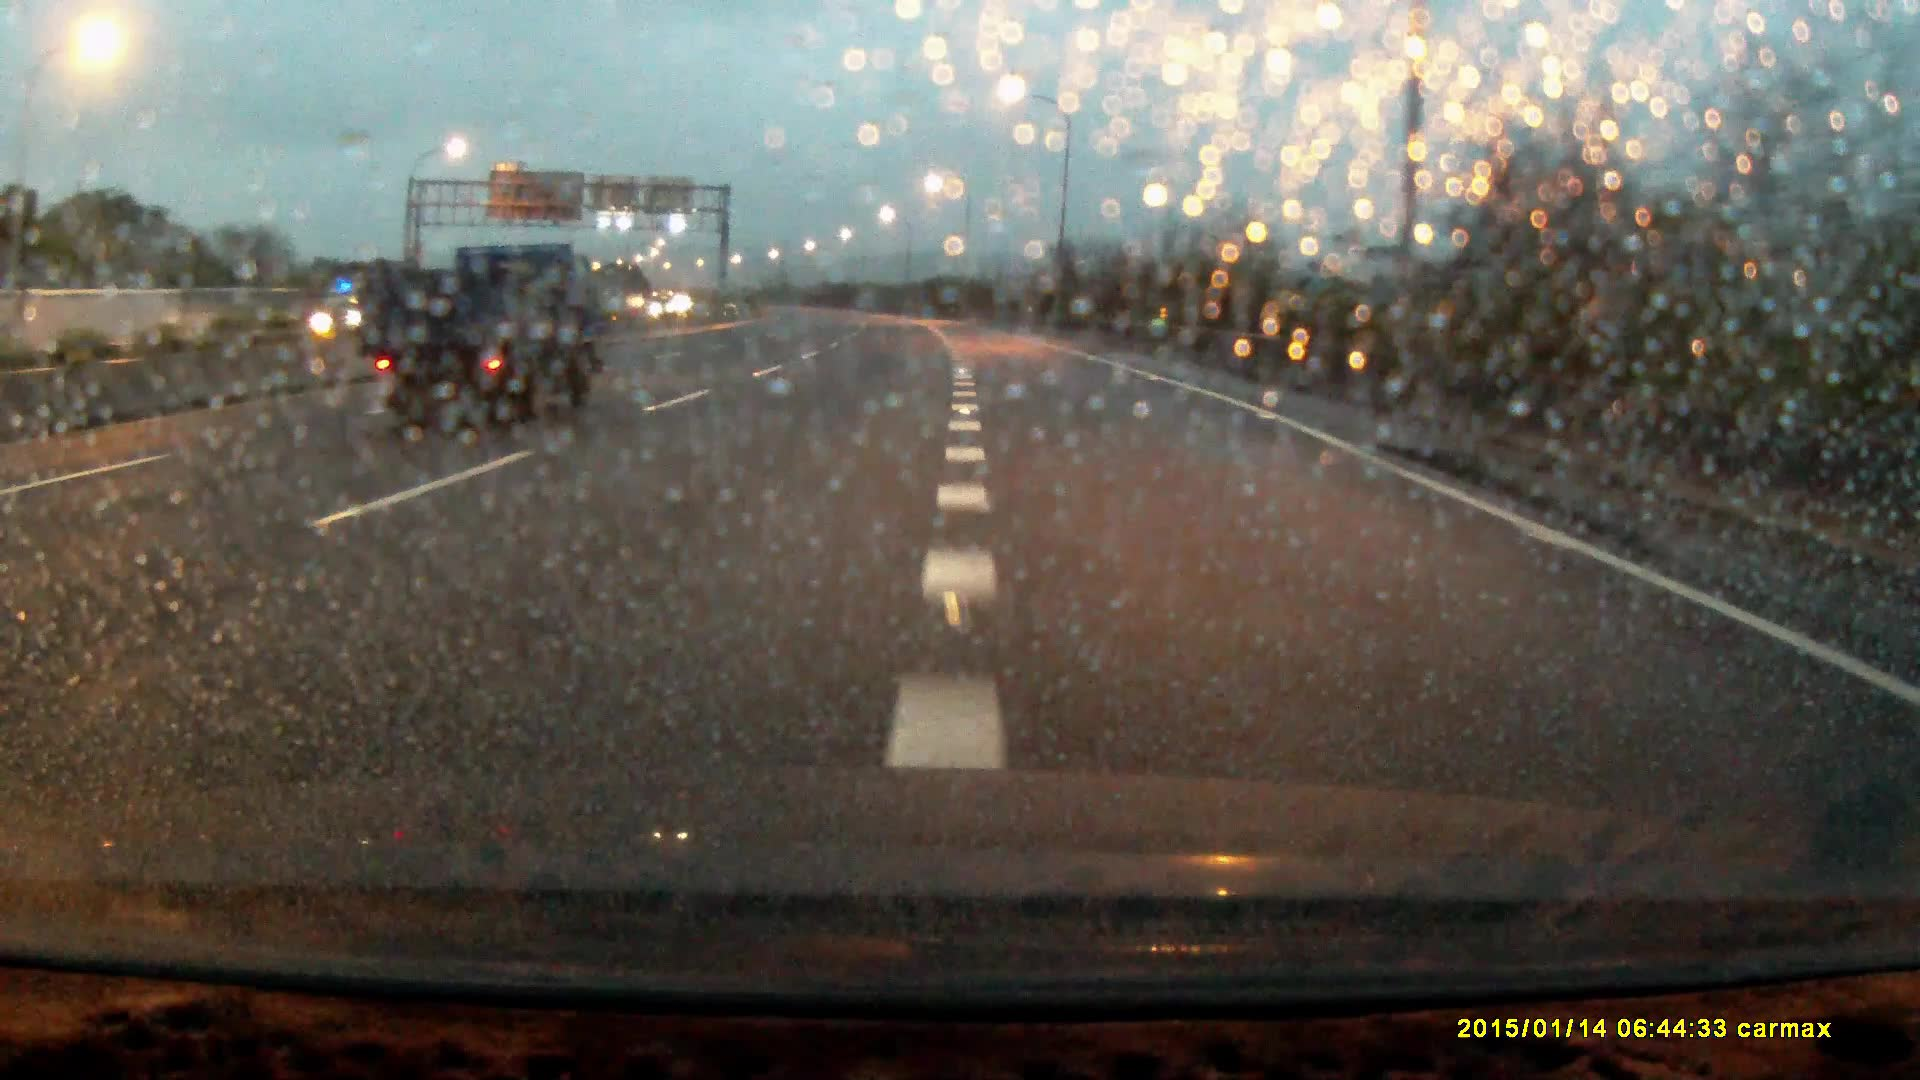vehicle: (357, 241, 592, 427)
